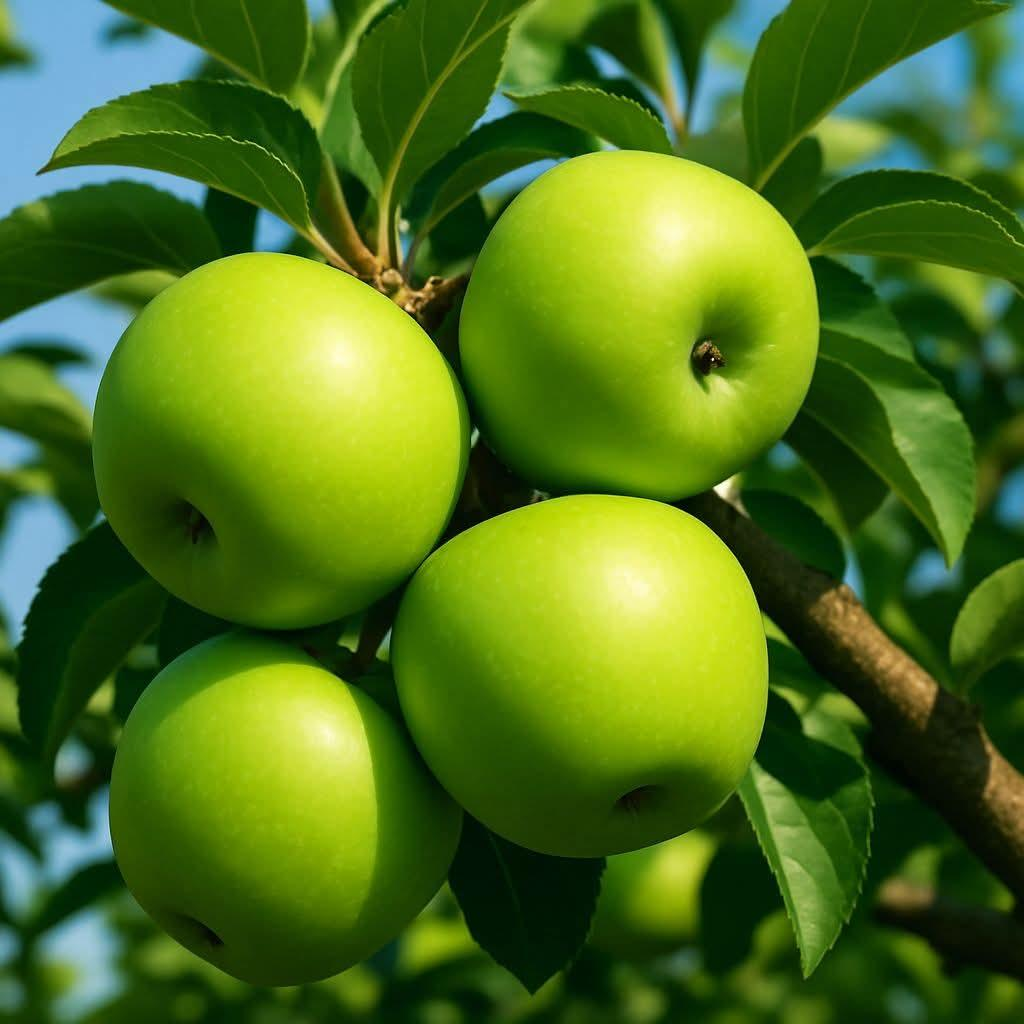non-mango: (90, 251, 462, 638), (400, 481, 767, 872), (460, 158, 831, 507), (120, 634, 436, 985)
